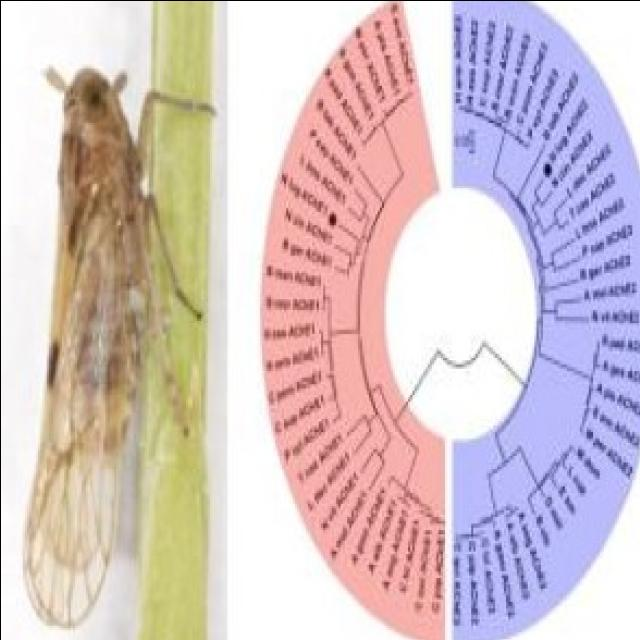brown plant hopper: (24, 67, 211, 623)
